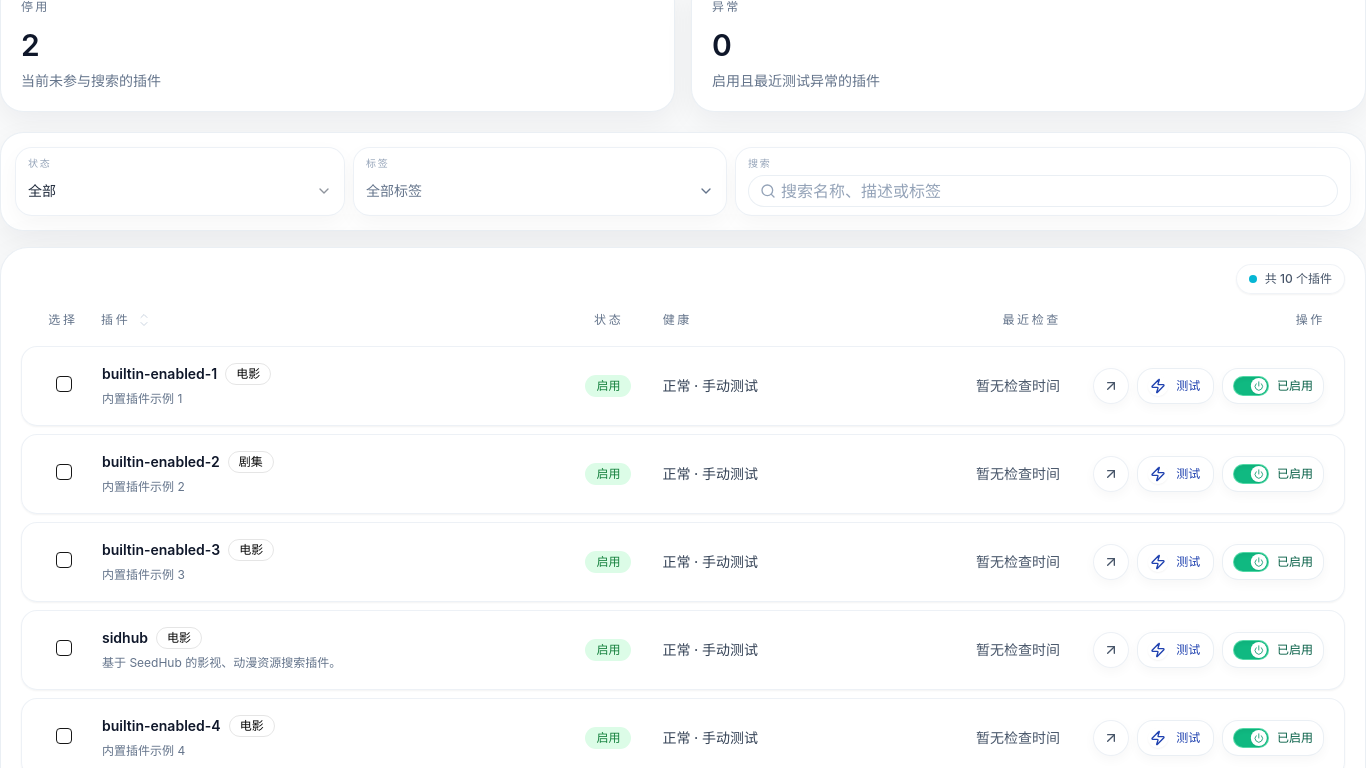
Test: PluginManagementView › 选择插件后显示批量操作栏
(page scrolled)
expect the row with test id "plugin-market-row-builtin-enabled-1" is shown: met, box [21,346,1345,426]
expect the button "全选当前筛选" is not shown: met
Click the checkbox named "选择插件 builtin-enabled-1" at (64, 384), box [56,376,72,392]
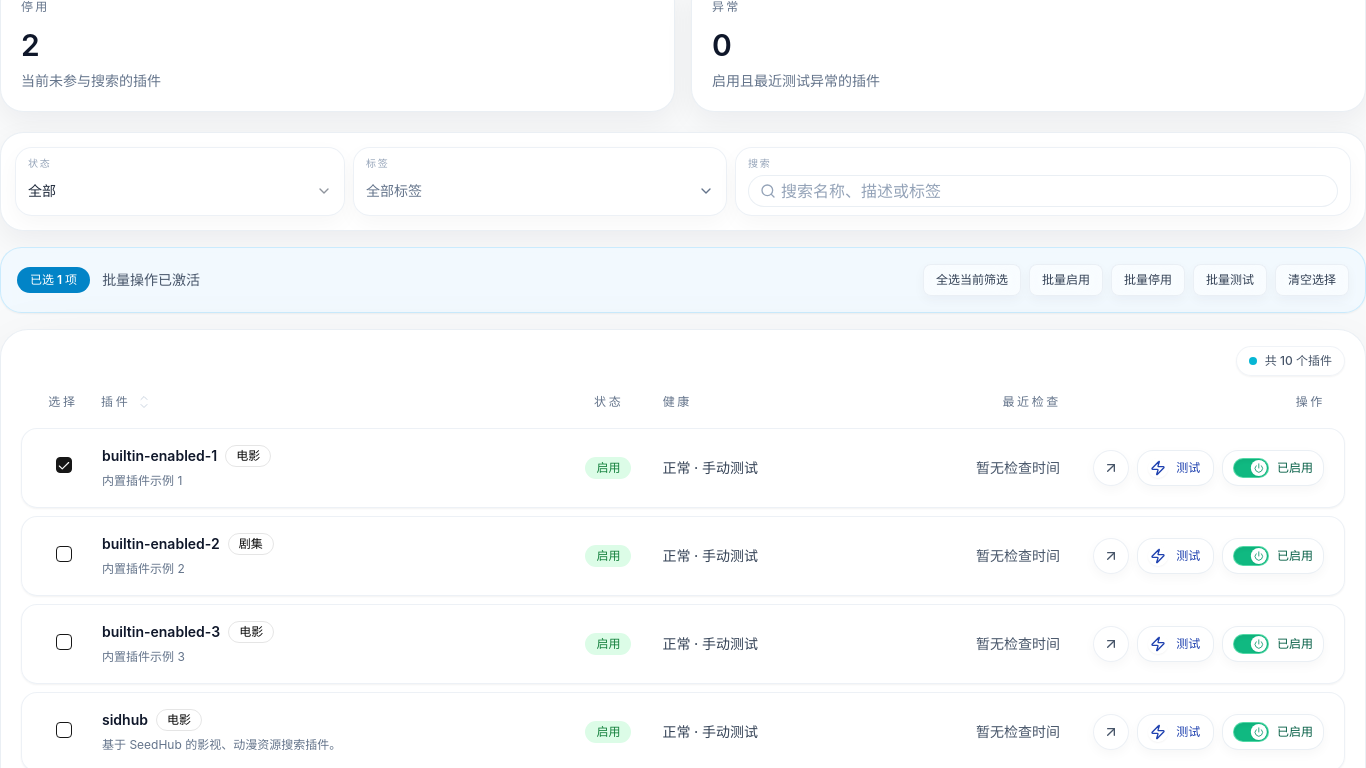
expect the element with test id "plugin-selection-bar" shows "已选 1 项": met, box [30,272,77,287]
expect the button "全选当前筛选" is shown: met, box [923,264,1021,296]
expect the button "批量启用" is shown: met, box [1029,264,1103,296]
